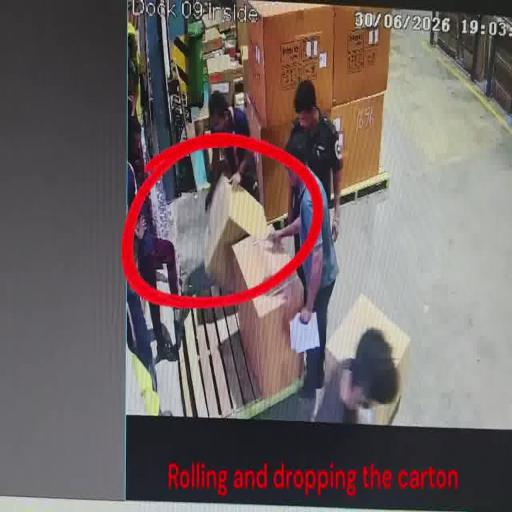carton: (244, 1, 336, 137), (231, 228, 304, 398), (325, 293, 410, 423), (203, 178, 268, 291), (242, 99, 296, 222), (319, 91, 384, 193), (330, 6, 394, 108)
pallet: (154, 287, 316, 420), (330, 172, 390, 206)
person: (266, 157, 338, 402), (127, 118, 183, 360), (284, 76, 344, 244), (308, 326, 400, 424), (204, 92, 261, 206)
